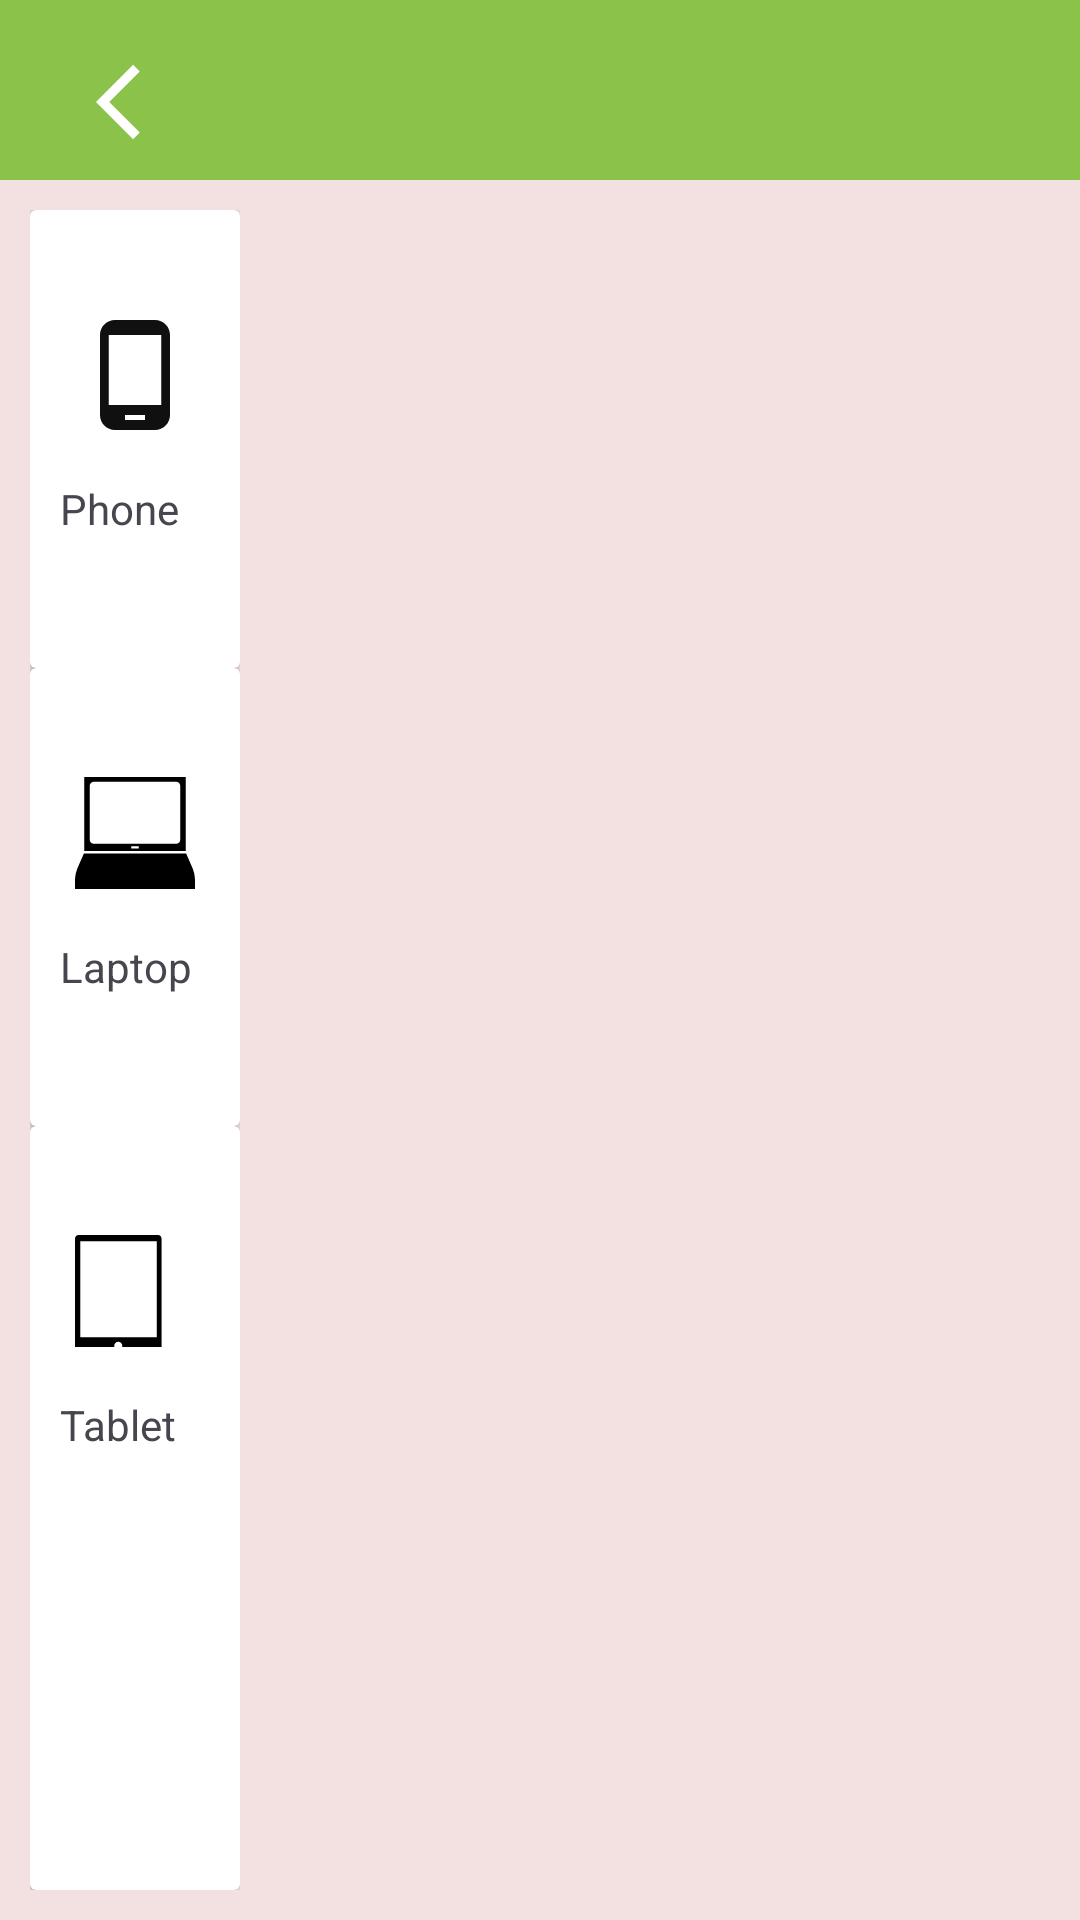

Screen size 1080px x 1920px. Icon name, then its box in pixels as box=[x1, y1, x2, y2]:
arrow back: box=[96, 65, 140, 139]
